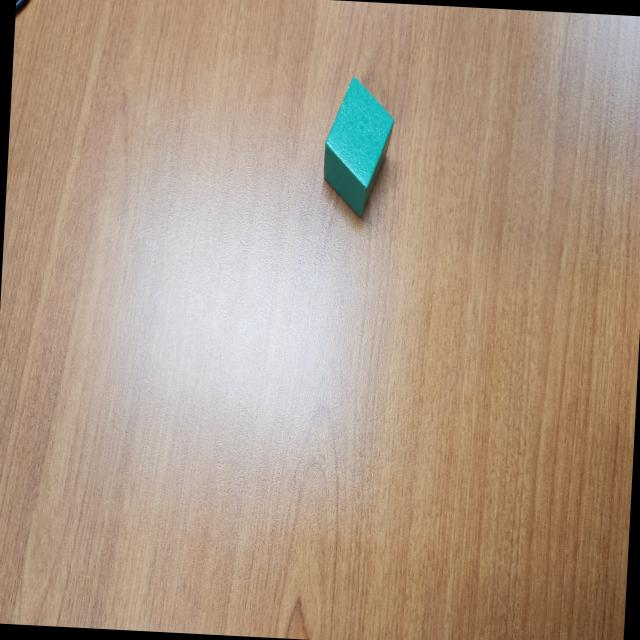green: (321, 74, 396, 221)
